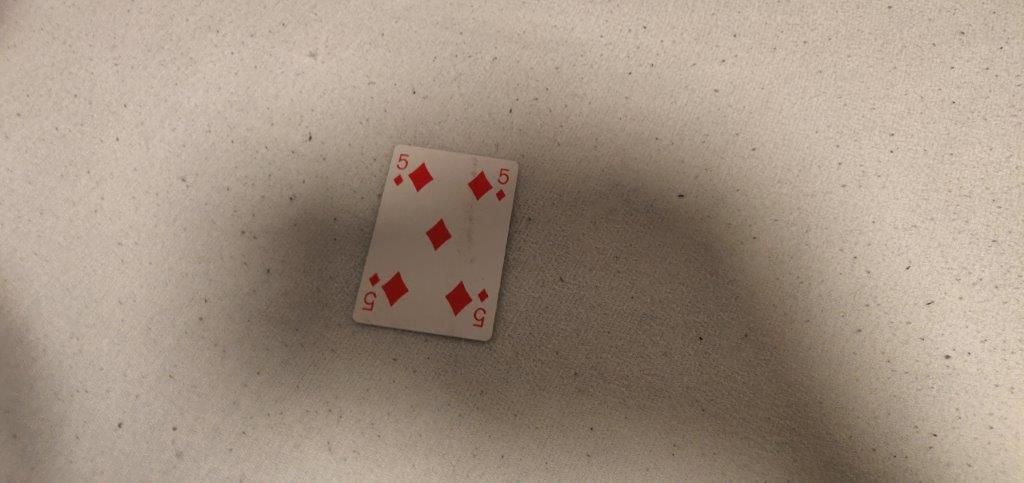5D: (494, 166, 512, 208), (390, 150, 410, 187)
